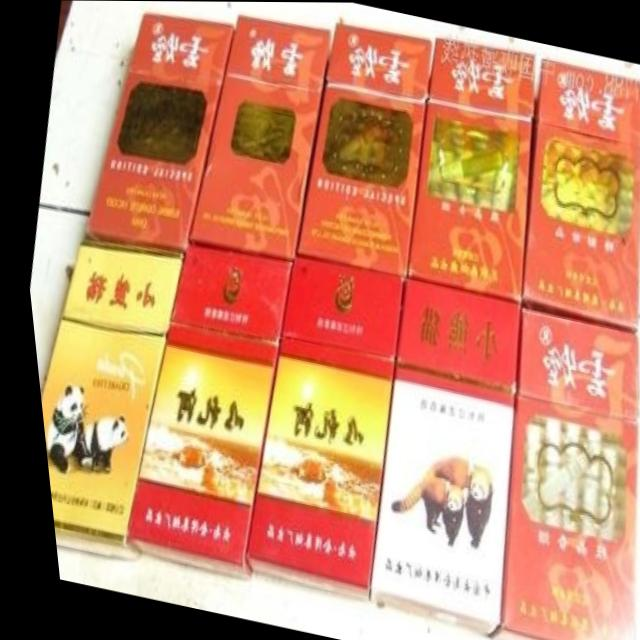box: (114, 246, 286, 581), (357, 280, 516, 635), (236, 256, 397, 600), (480, 308, 630, 640), (32, 242, 175, 561), (184, 14, 330, 262), (82, 13, 231, 248), (293, 24, 429, 276), (518, 59, 640, 332), (404, 39, 532, 298)
